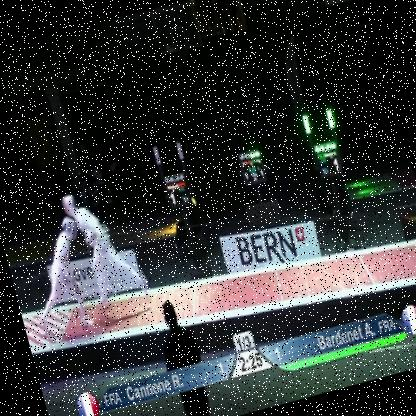fencer: (58, 173, 157, 322), (11, 208, 105, 342)
referee: (140, 284, 226, 415)
